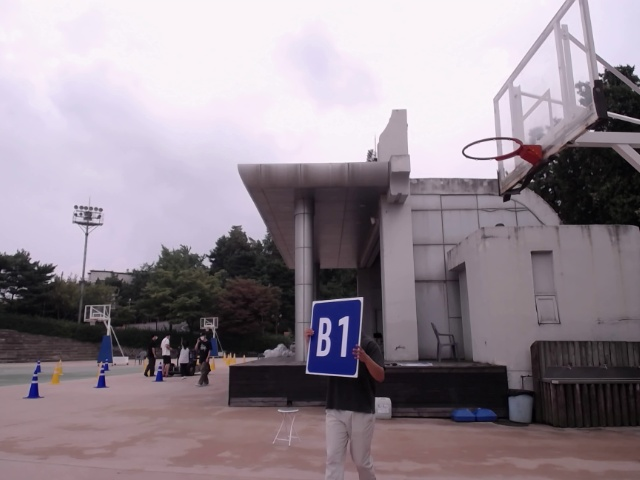delivery_b1: (306, 297, 363, 377)
